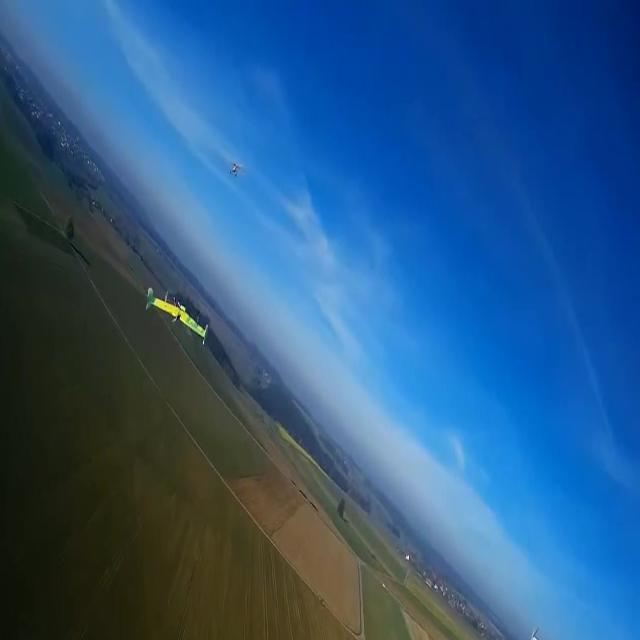iha: (227, 162, 243, 178), (177, 286, 177, 347)
